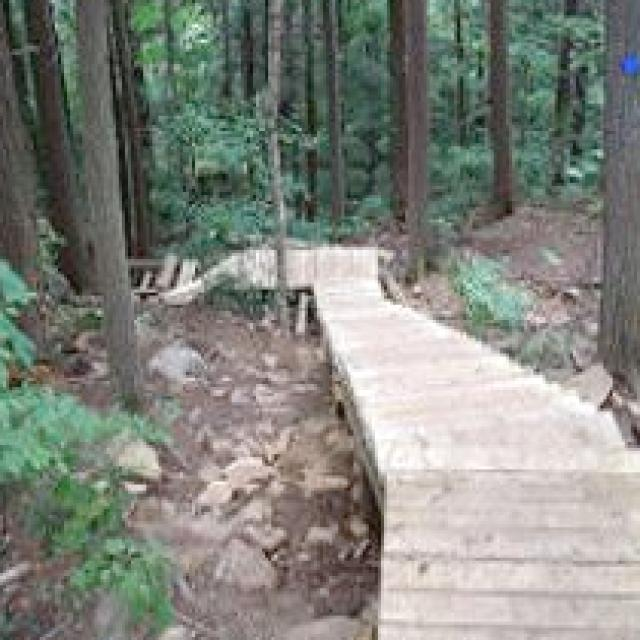downstair: (366, 373, 640, 513)
